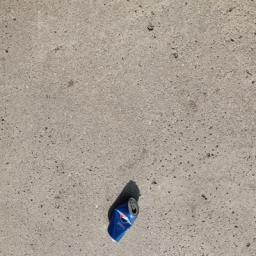FOD: (95, 176, 150, 243)
